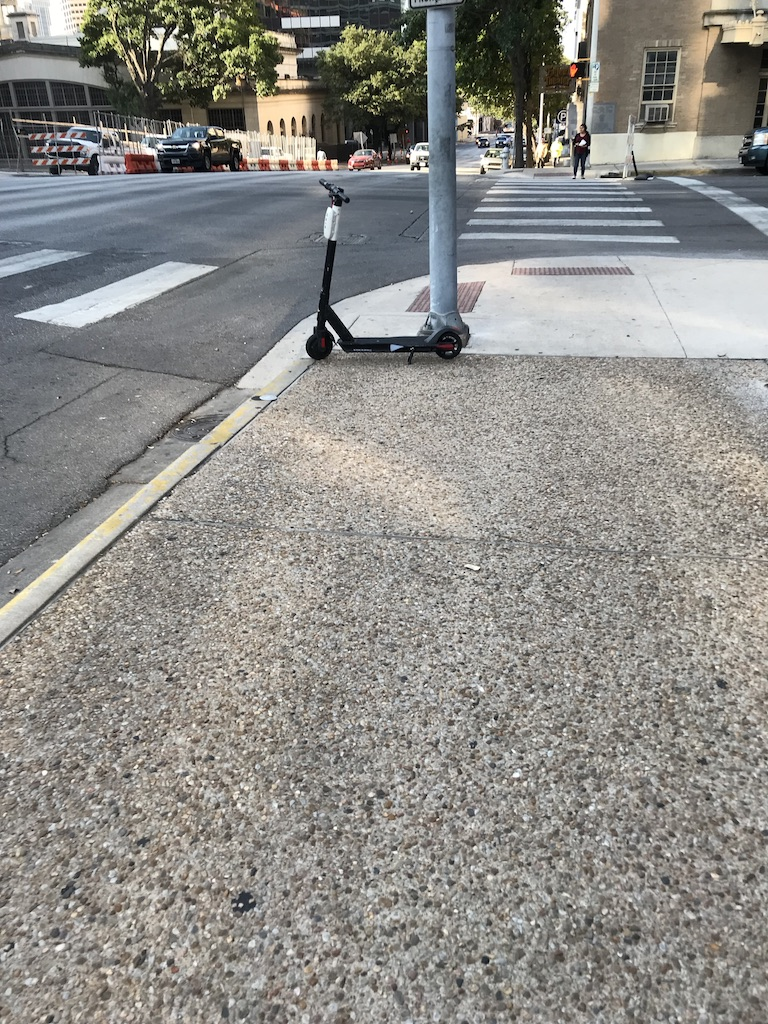scooter: (307, 179, 464, 361)
